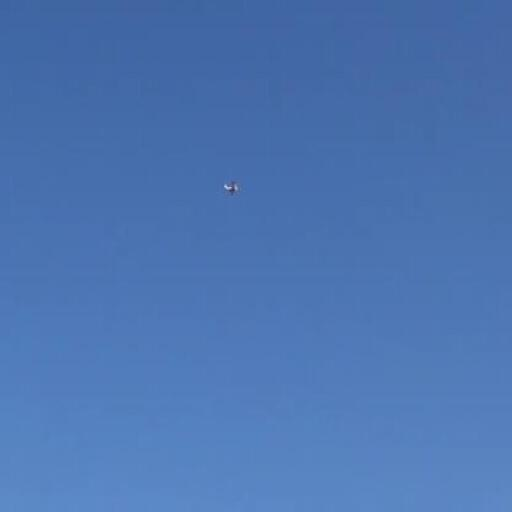aircraft: (224, 181, 241, 194)
